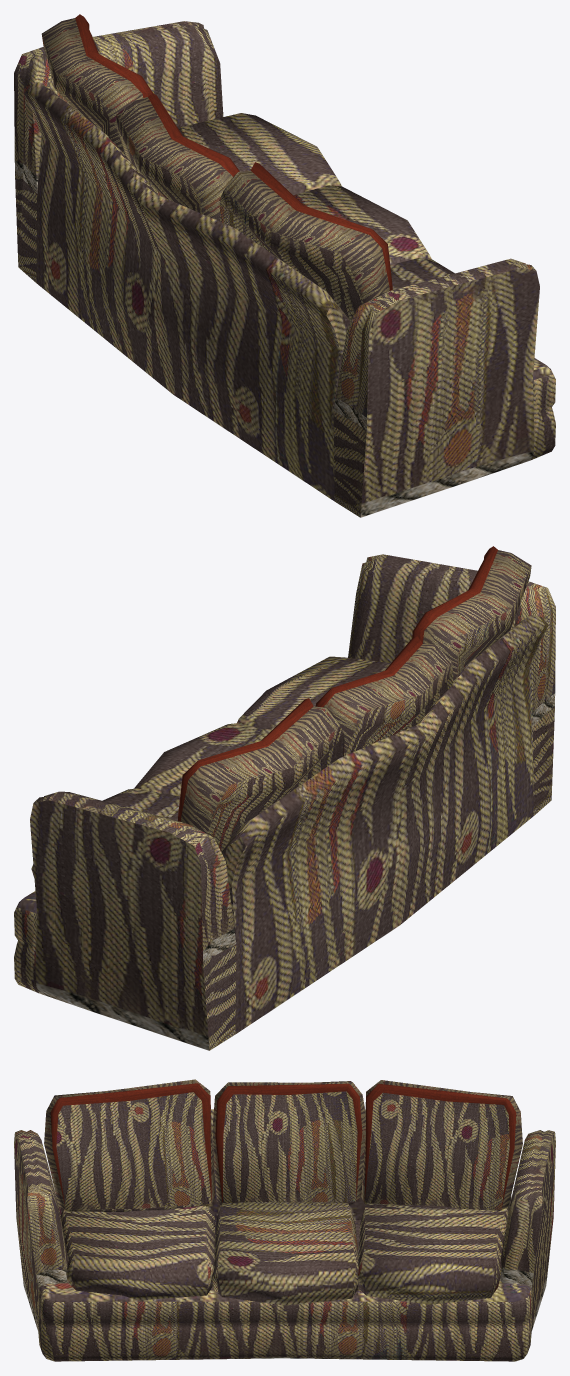
File: M_Home_Garden_Couch03.fbx
3 views of the same model, one above another, from view 1: azimuth 30°, elevation 25°; view 2: azimuth 150°, elevation 25°; view 3: azimuth 270°, elevation 25° (orthographic). The views are drawn at different scales.
Parts seen in each view (by area): view 1: M_Home_Garden_Couch03; view 2: M_Home_Garden_Couch03; view 3: M_Home_Garden_Couch03.
Boxes of the visible parts, box(x1,y1,x2,y2) form: M_Home_Garden_Couch03: box(14, 14, 555, 517); M_Home_Garden_Couch03: box(14, 546, 555, 1050); M_Home_Garden_Couch03: box(14, 1079, 555, 1361).
Bounding box in the file's own units: 131 × 125 × 295.
